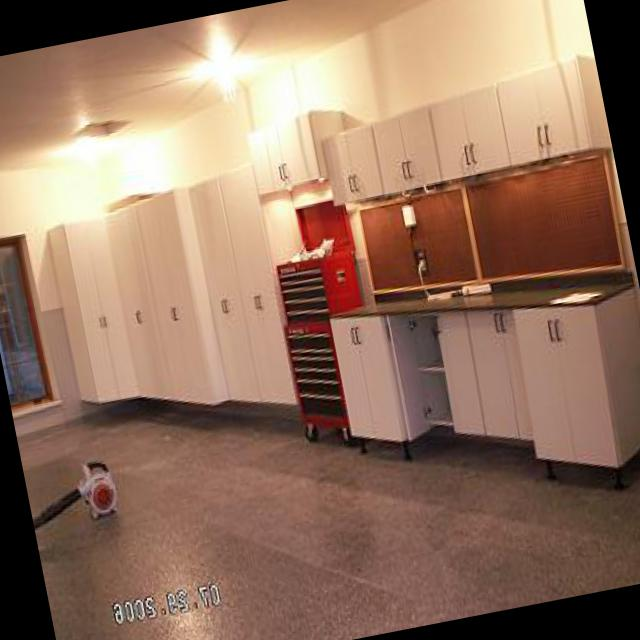2001: (0, 231, 55, 409)
cupboard crop: (332, 278, 640, 484), (50, 163, 300, 402), (324, 52, 611, 204), (249, 106, 347, 192)
floor -X: (19, 404, 640, 640)
lamp crop: (197, 36, 257, 91)
wall clock: (94, 0, 640, 450), (0, 156, 143, 432)
